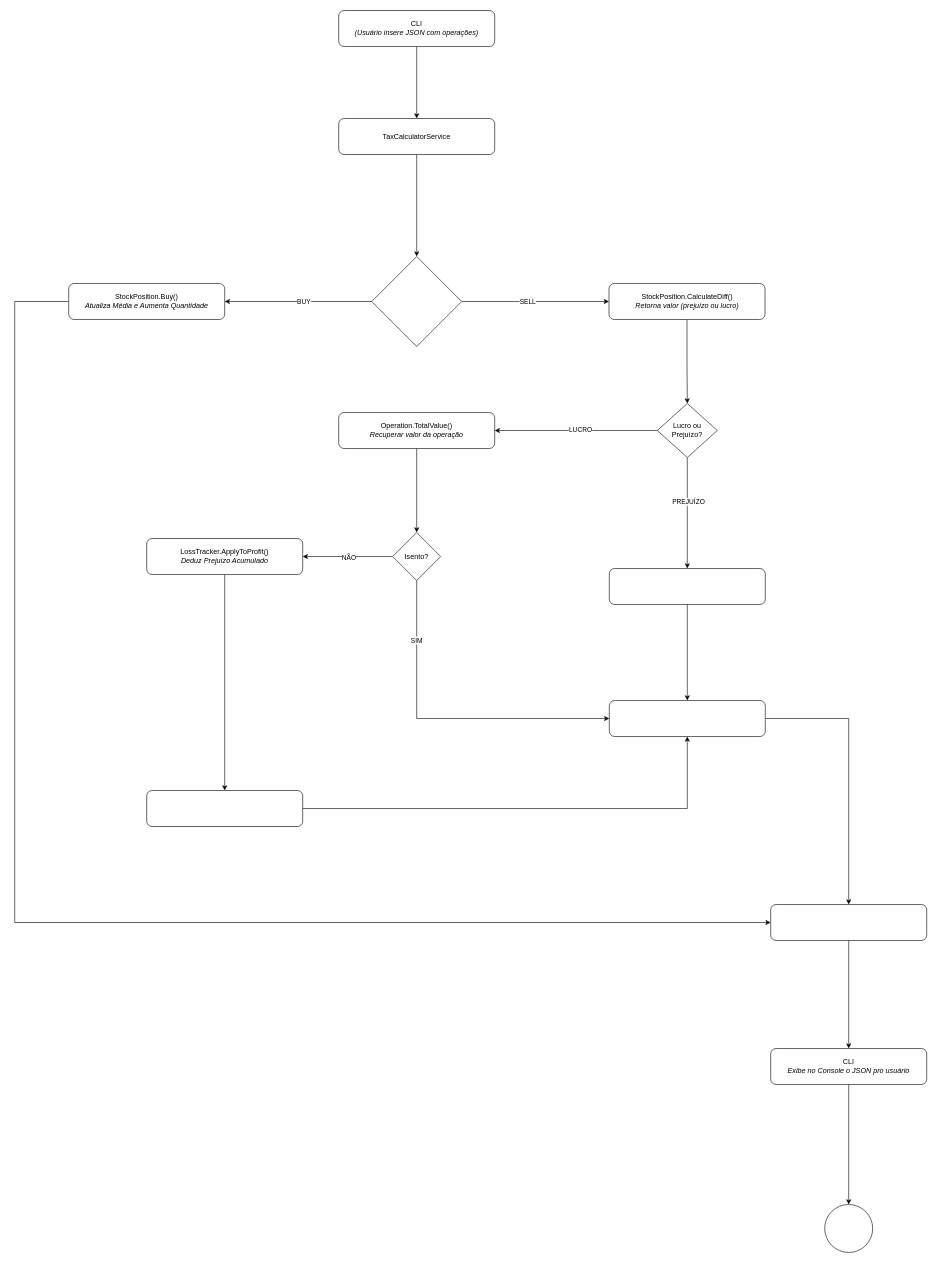
Some shapes in this 937 by 1263 pixel diagram are drawn without their labels. Here are the shapes that lost their labels. From the top down, the centre of each, then its label:
At point (416, 301): "Operation Type?".
At point (687, 586): "LossTracker.Accumulate() Guarda Prejuízo Acumulado".
At point (687, 718): "StockPosition.Sell() Reduz quantidade de ações atual".
At point (224, 808): "TaxPolicy.CalculateTax() Aplica Taxa de Imposto".
At point (848, 922): "BuildTaxResult() Adiciona a taxa da operação".
